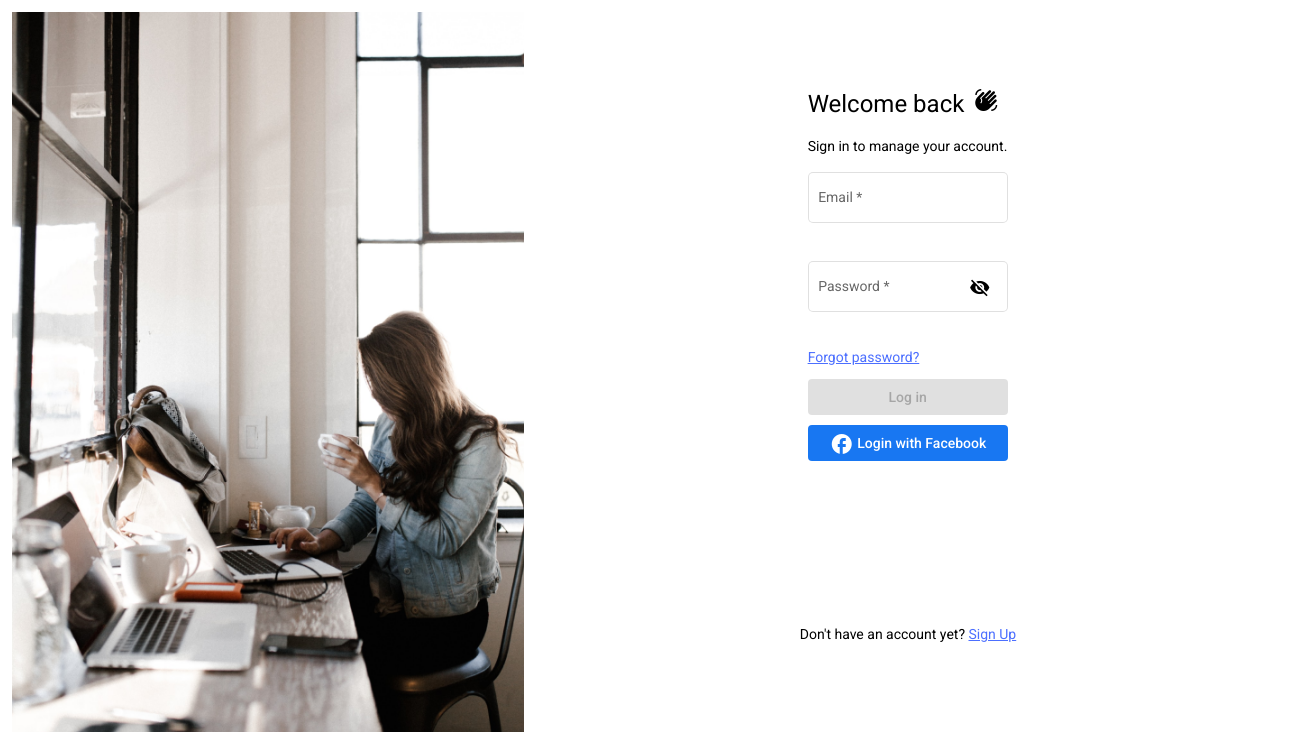
Test: Login › Should get login error with invalid credentials
The image size is (1292, 732).
Type "mail1@mail.com" into the field named "email" at (908,202), box [818,194,997,210]
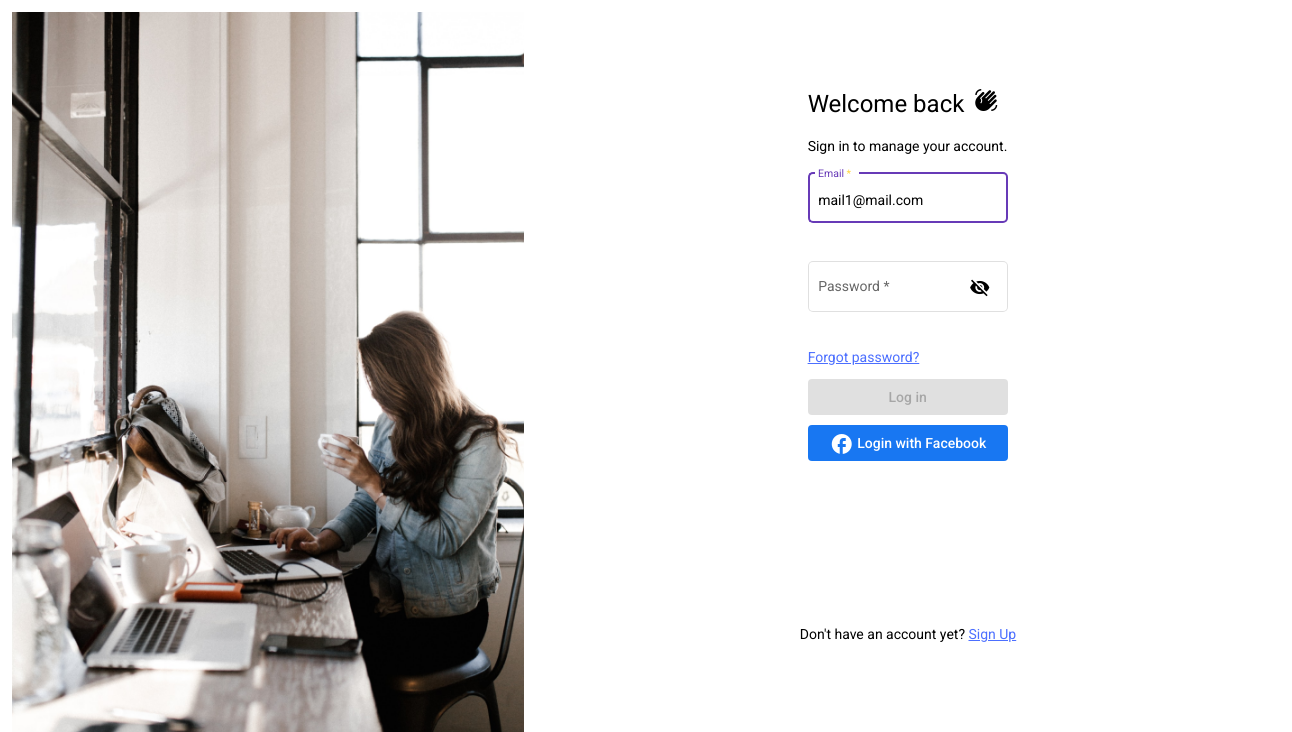
Type "Sombra12345" into the element showing "Password *" at (908,290), box [808,282,1008,298]
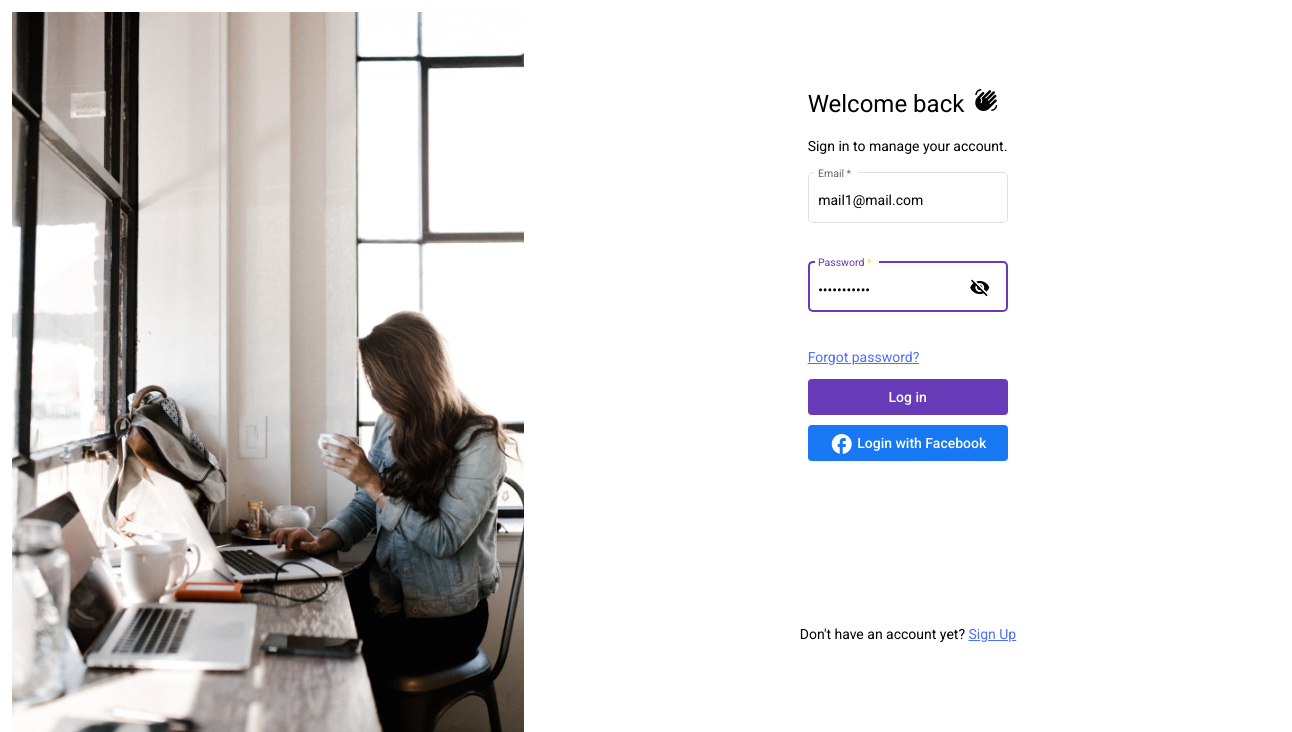
Click the submit button at (908,397), box [808,379,1008,415]
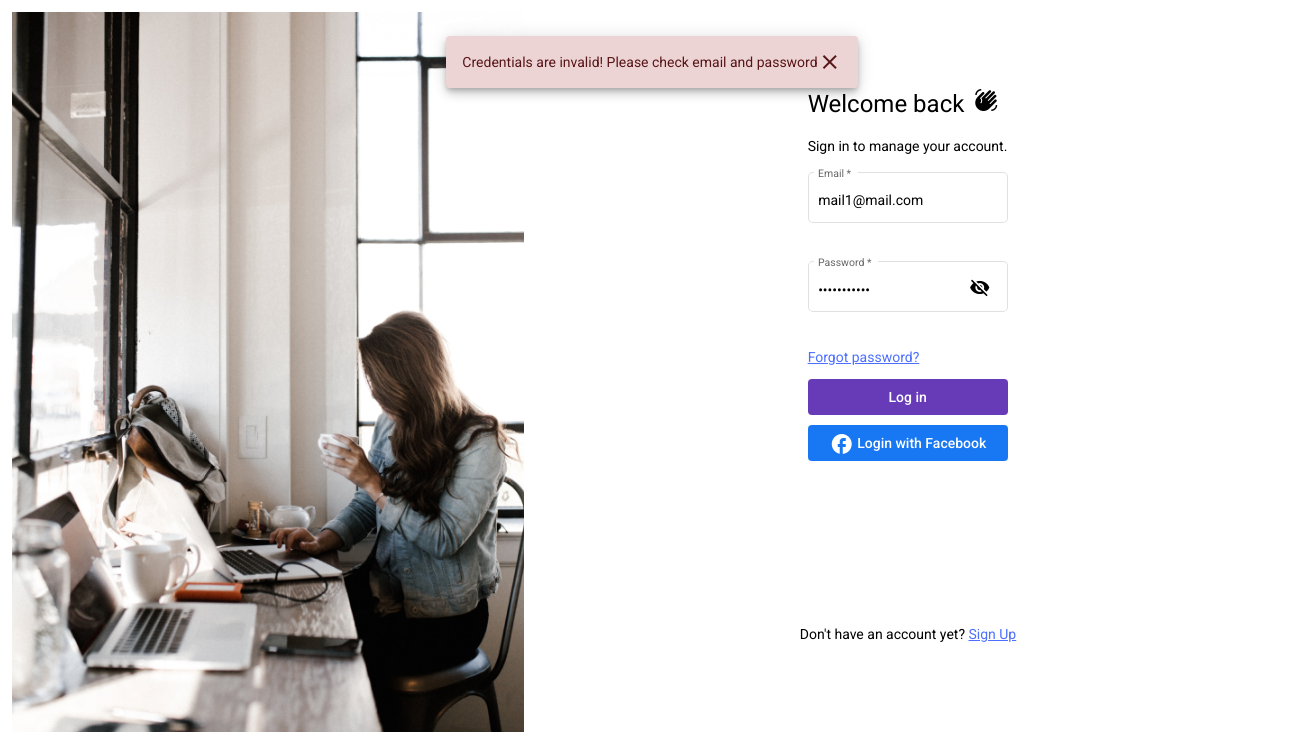
Result: the text "Credentials are invalid! Please check email and password" is shown at [462,50,842,74]
